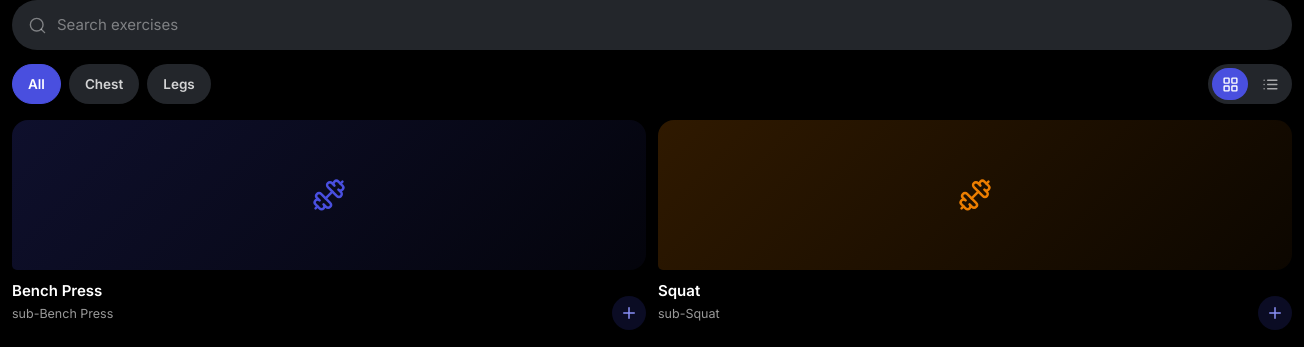
Test case: ExercisePickerList › filters by body-part chip
Click the button "Legs" at (179, 84), box [147,64,211,104]
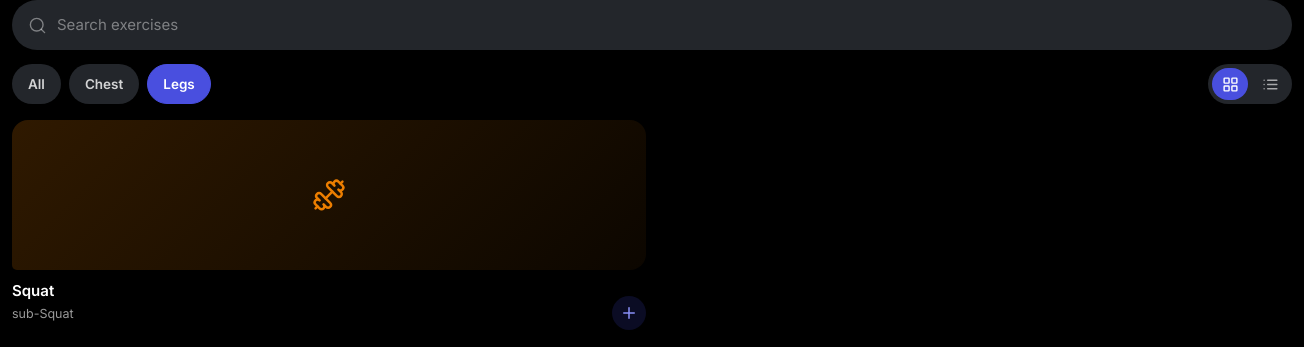
Expected: the text "Squat" is shown, [12,281,54,300]
Expected: the button "Bench Press" is gone
